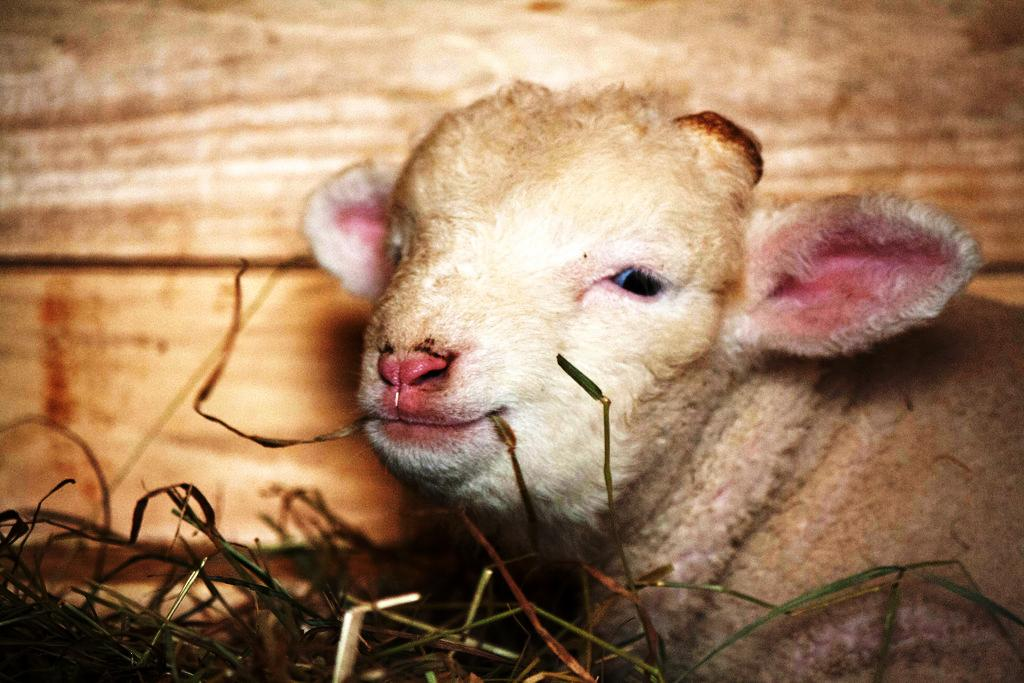Sheep: (296, 80, 1024, 682)
